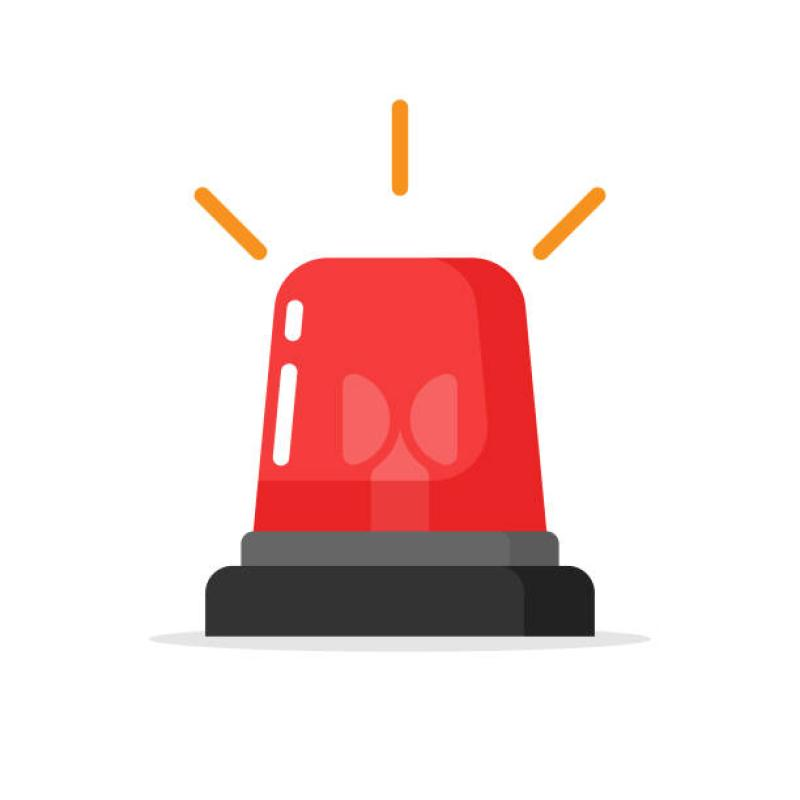AmbulanceSiren: (206, 237, 589, 727)
